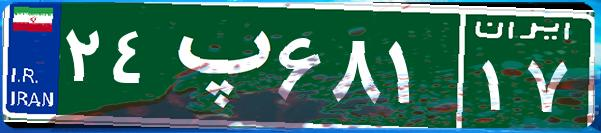1: (385, 28, 445, 110), (475, 38, 525, 113)
2: (57, 26, 110, 107)
4: (110, 28, 158, 105)
6: (273, 28, 330, 110)
7: (525, 38, 570, 115)
8: (330, 28, 385, 110)
پ: (158, 15, 273, 115)
